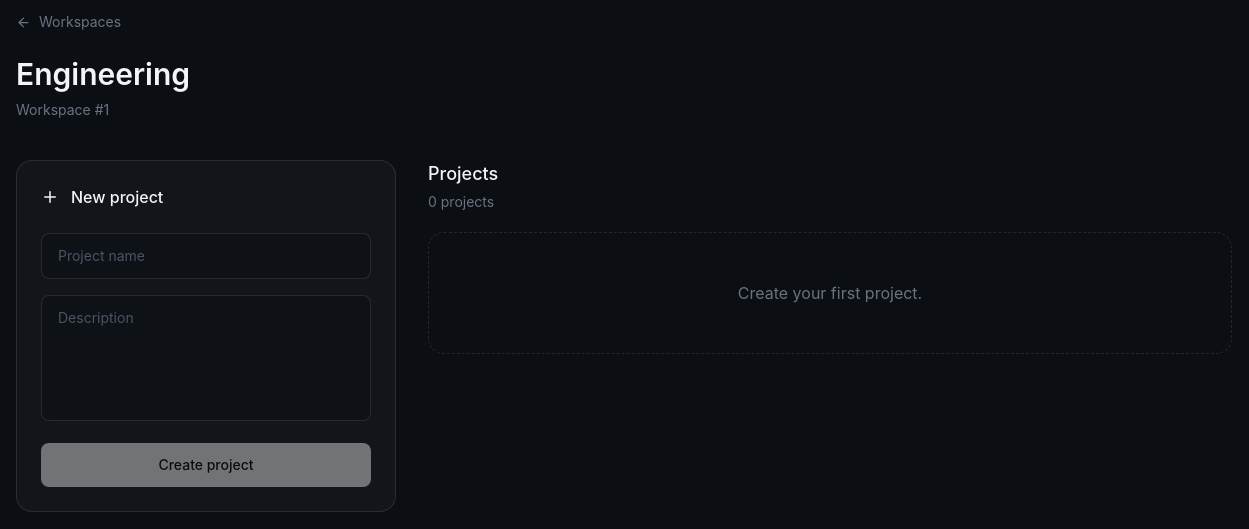
Test case: BackFlow pages › creates a project inside a workspace
Expected: the heading "Engineering" is shown, [16,56,190,92]
Type "Genesis" into the field with placeholder "Project name" at (206, 256), box [41,233,371,279]
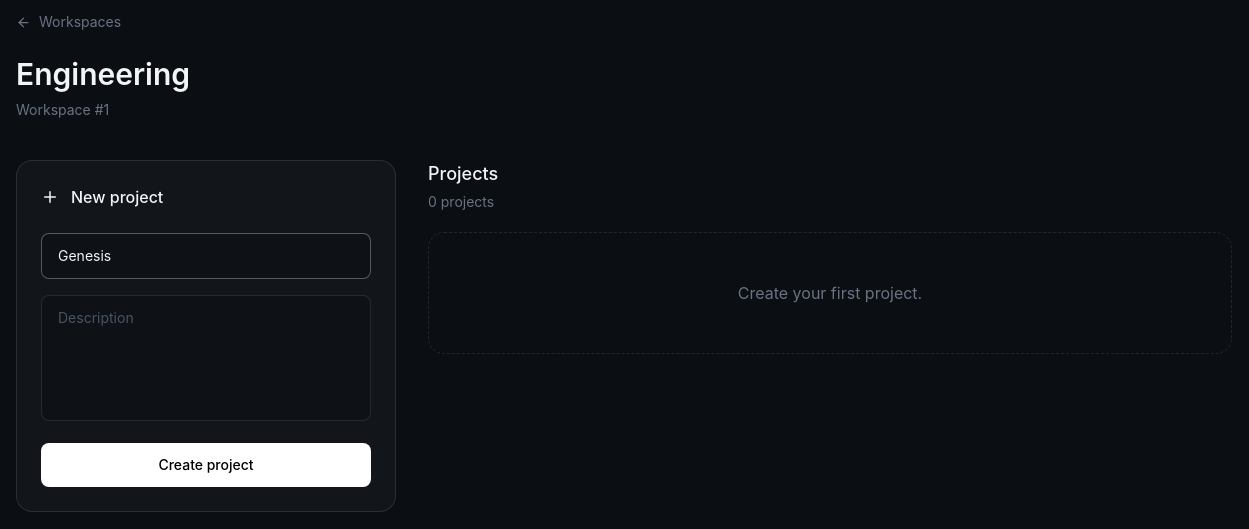
Type "3D engineering project" into the text box with placeholder "Description" at (206, 358), box [41,295,371,421]
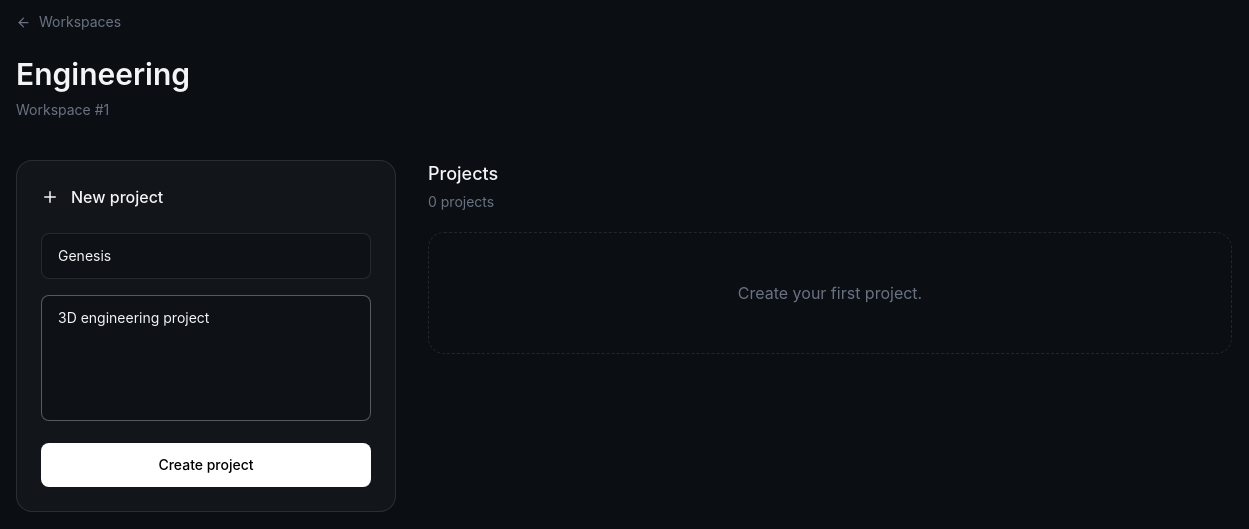
Click the button "Create project" at (206, 465), box [41,443,371,487]
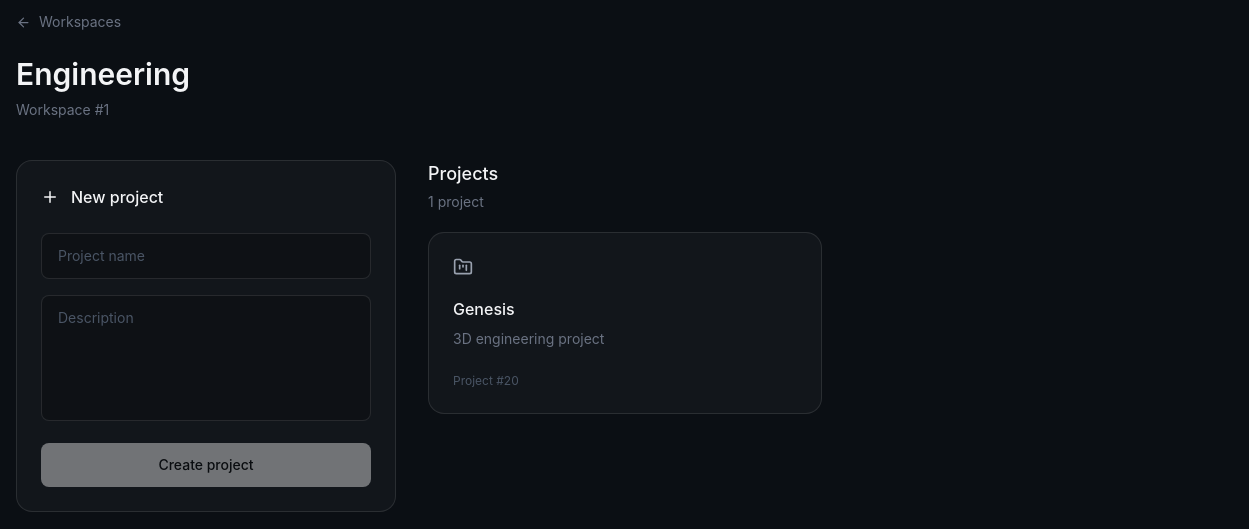
Now the heading "Genesis" is shown, box [453,299,515,319]
Now the text "3D engineering project" is shown, box [453,330,604,347]
